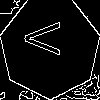V: (25, 22, 69, 55)
